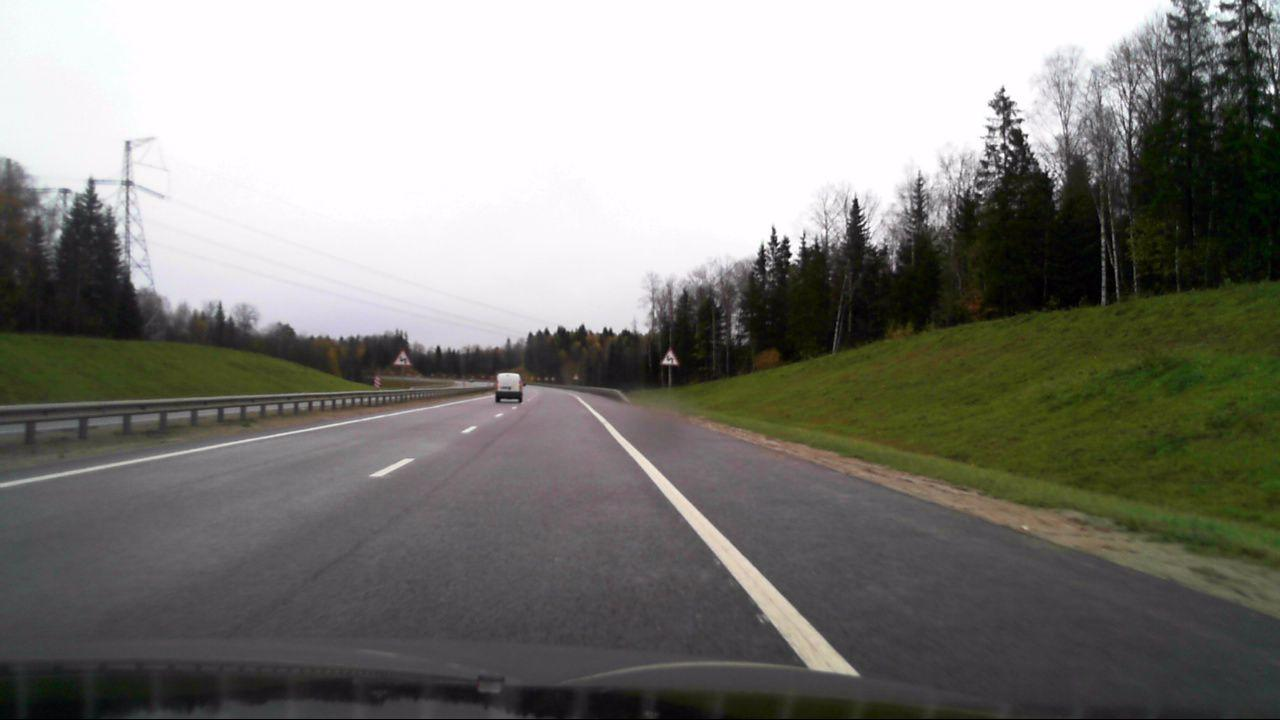1_12_2: (661, 347, 681, 367), (393, 349, 411, 366)
